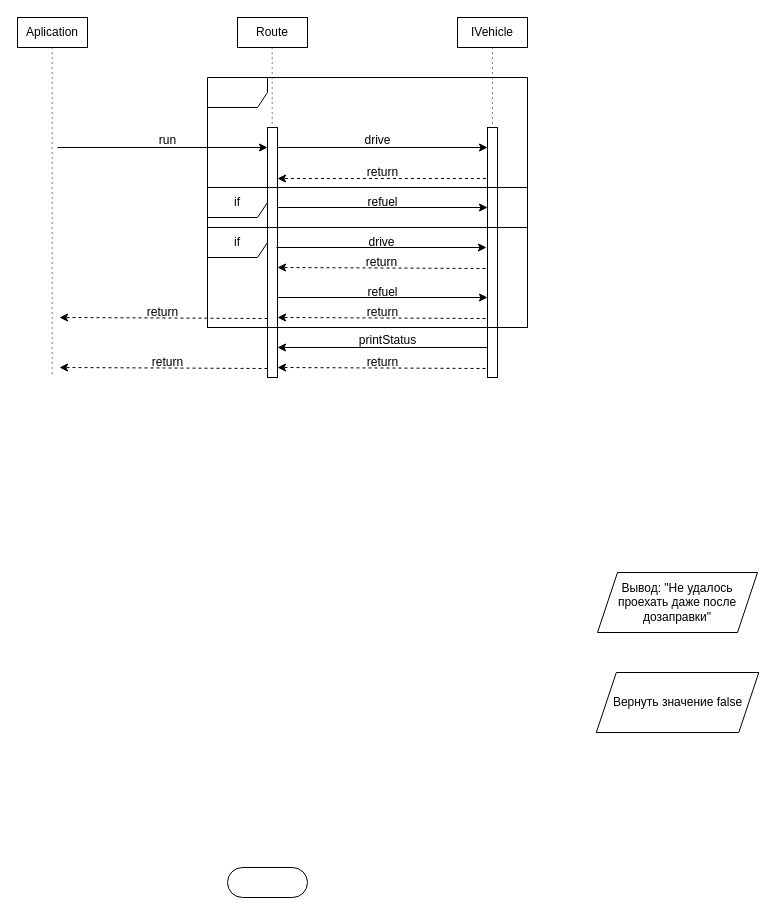
Image size: 777x915. Some labels were removed from this diagram. The box of each missing label's shape, as (x1, y1, x2, y2) in pixels:
for: (206, 76, 528, 328)
Конец: (226, 866, 308, 898)
